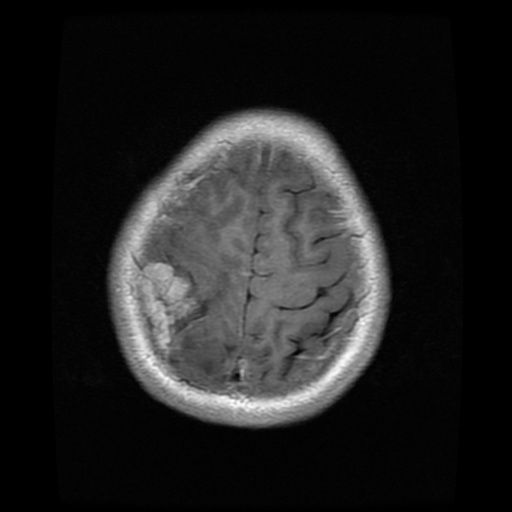meningioma: (139, 261, 199, 347)
